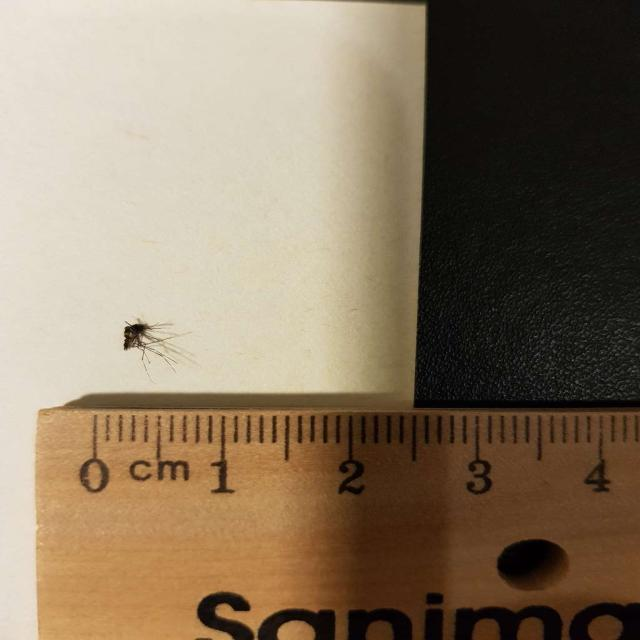albopictus: (110, 310, 200, 382)
